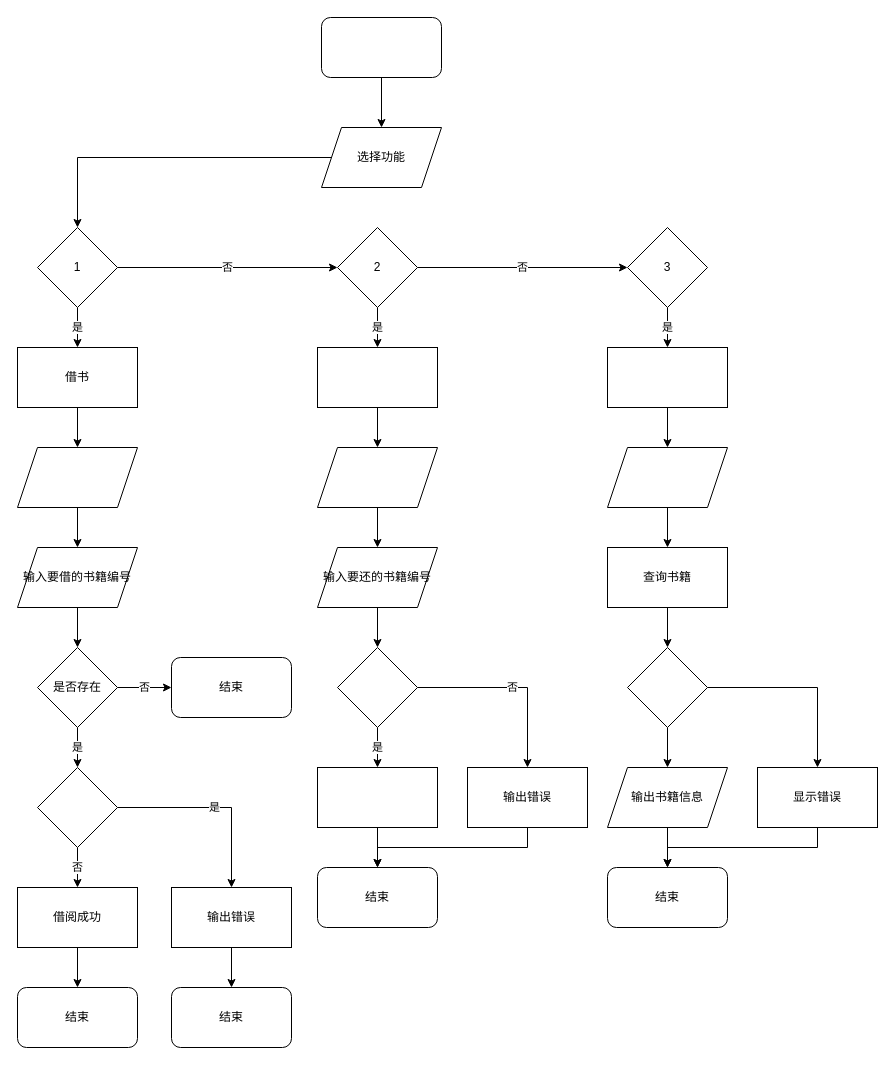
The diagram is 895 pixels wide and 1065 high, and some of its shapes have lost their labels. Here are the shapes that lost their labels. From the top down, the box of each, then its label:
(320, 16, 442, 78): 开始
(316, 346, 438, 408): 还书
(606, 346, 728, 408): 查书
(16, 446, 138, 508): 输出当前书籍
(316, 446, 438, 508): 输出已借阅书籍
(606, 446, 728, 508): 输入书籍名称
(336, 646, 418, 728): 是否为已借阅书籍
(626, 646, 708, 728): 是否查到
(36, 766, 118, 848): 是否已借阅
(316, 766, 438, 828): 删除该书借阅信息
